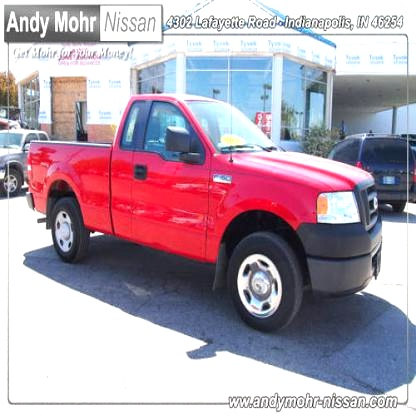Vehicle: (26, 91, 385, 333)
